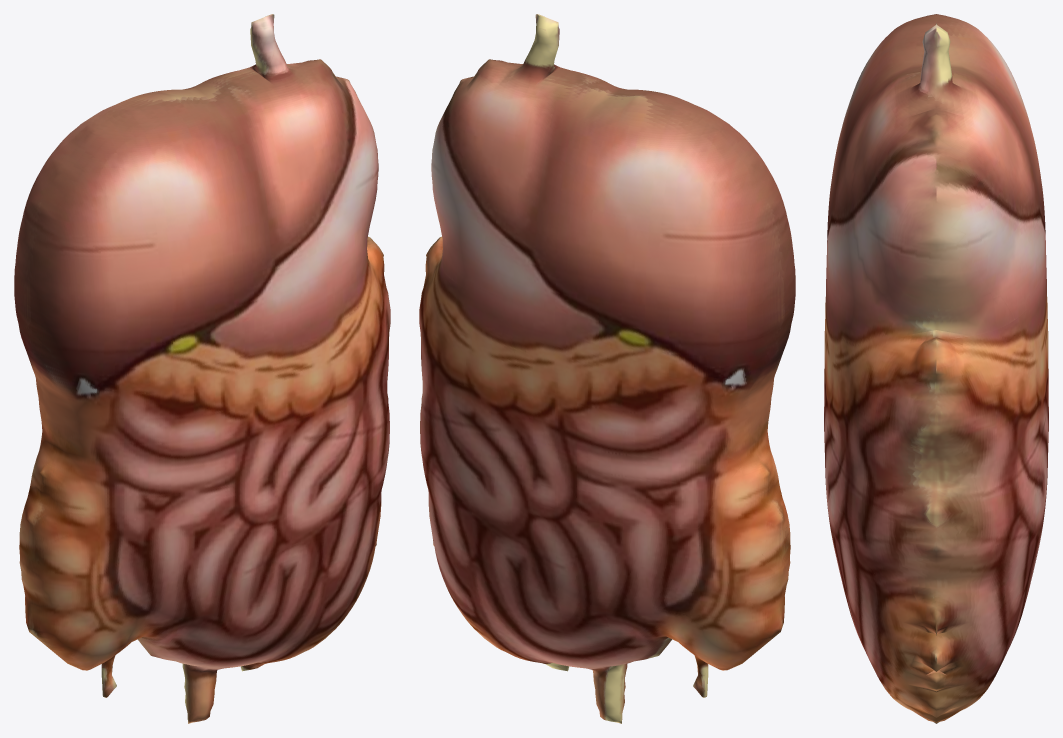
The picture shows the model from 3 angles, left to right: view 1: azimuth 30°, elevation 25°; view 2: azimuth 150°, elevation 25°; view 3: azimuth 270°, elevation 25°; orthographic projection. The views are drawn at different scales.
Visible parts, largest first — view 1: Object_5; view 2: Object_5; view 3: Object_5.
Boxes of the visible parts, left/top/right/bottom form: Object_5: left=14, top=14, right=390, bottom=723; Object_5: left=419, top=14, right=795, bottom=723; Object_5: left=824, top=14, right=1048, bottom=723.
Bounding box in the file's own units: 1.58 × 2.91 × 0.8161.
1 material, 1 textured.
